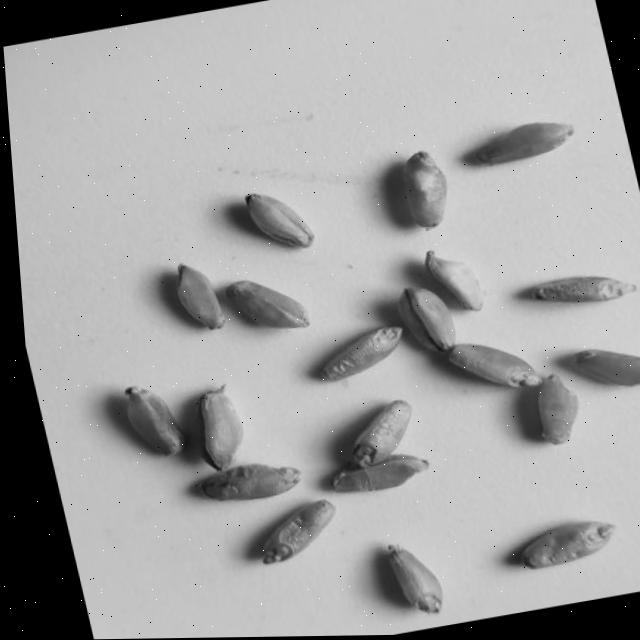wheat_grain: (258, 499, 333, 565), (319, 325, 402, 381), (470, 121, 573, 165), (517, 521, 613, 568), (123, 385, 184, 455), (225, 280, 310, 328), (448, 344, 540, 388), (349, 400, 411, 465), (385, 544, 443, 612), (199, 383, 242, 470), (250, 185, 311, 246), (200, 463, 300, 500), (331, 454, 428, 492), (401, 149, 447, 227), (398, 287, 450, 354), (176, 263, 227, 329), (425, 251, 483, 309), (524, 276, 634, 302), (538, 374, 578, 444), (564, 349, 637, 385), (517, 375, 546, 442)
